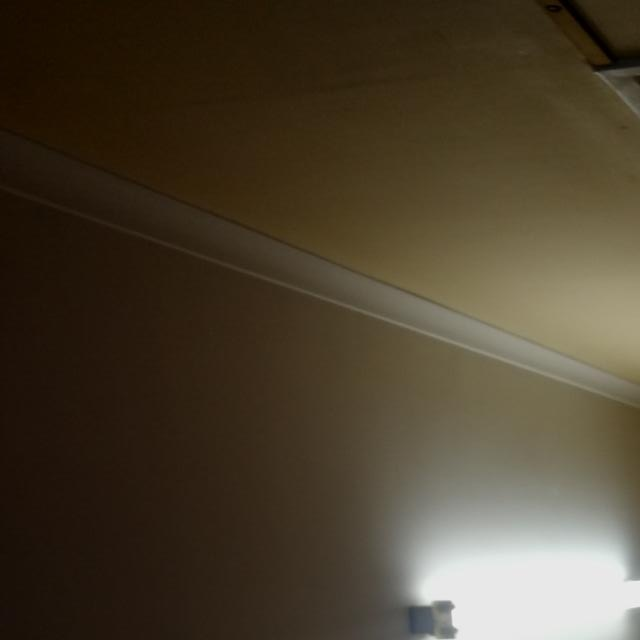fluorescent tube: (400, 536, 640, 640)
